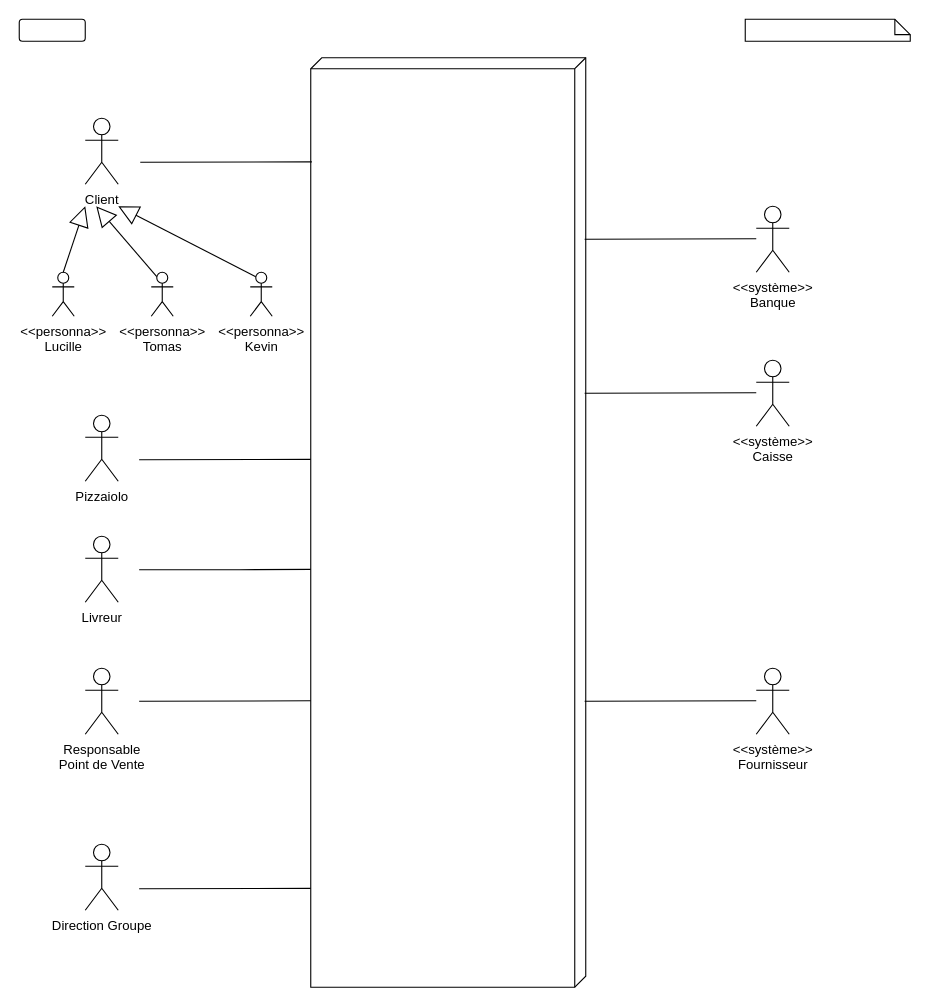
Some shapes in this 930 by 1007 pixel diagram are drawn without their labels. Each missing label, with the box of its shape:
Diagramme de Contexte: (744, 18, 910, 41)
OC'Pizza: (18, 18, 85, 41)
Système: (310, 57, 586, 987)
